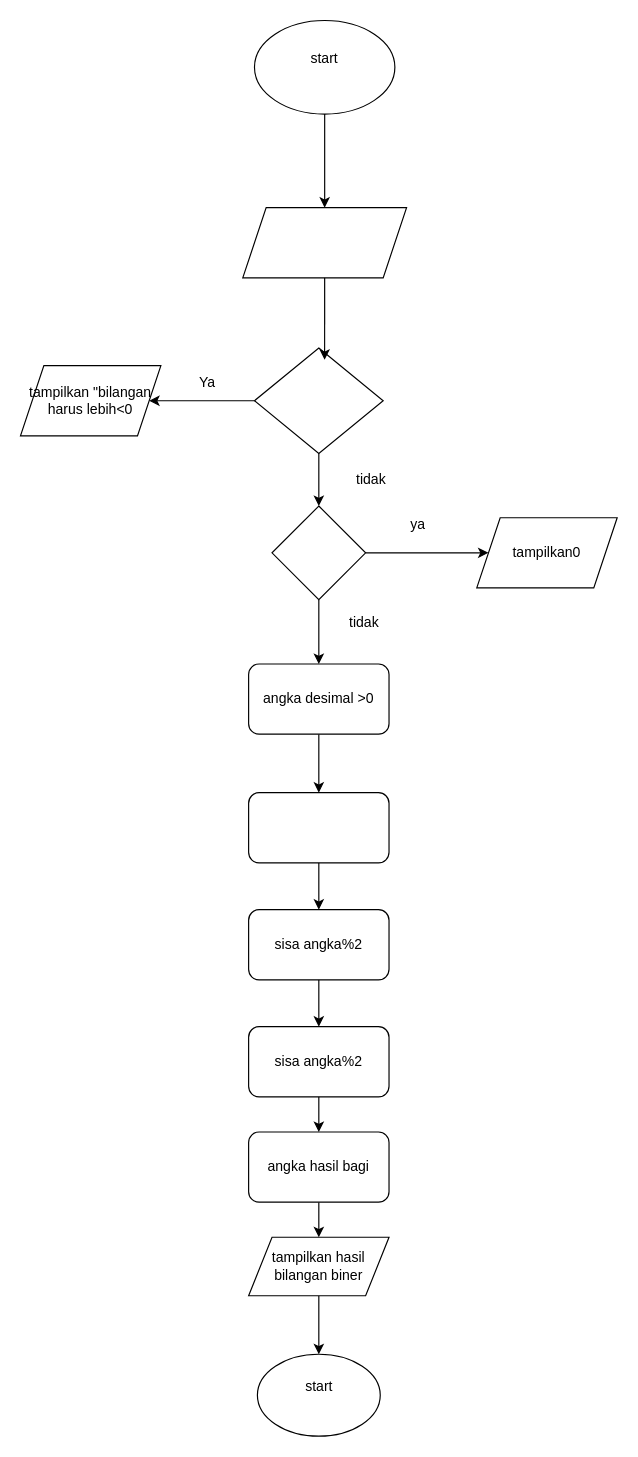
This 638x1457 diagram has some shape labels left out. Each missing label, with the box of its shape:
hasil bagi angka 2: (247, 792, 389, 863)
input desimal: (242, 207, 407, 278)
jika desimal: (253, 347, 383, 453)
jika desimal = 0: (271, 505, 366, 600)
